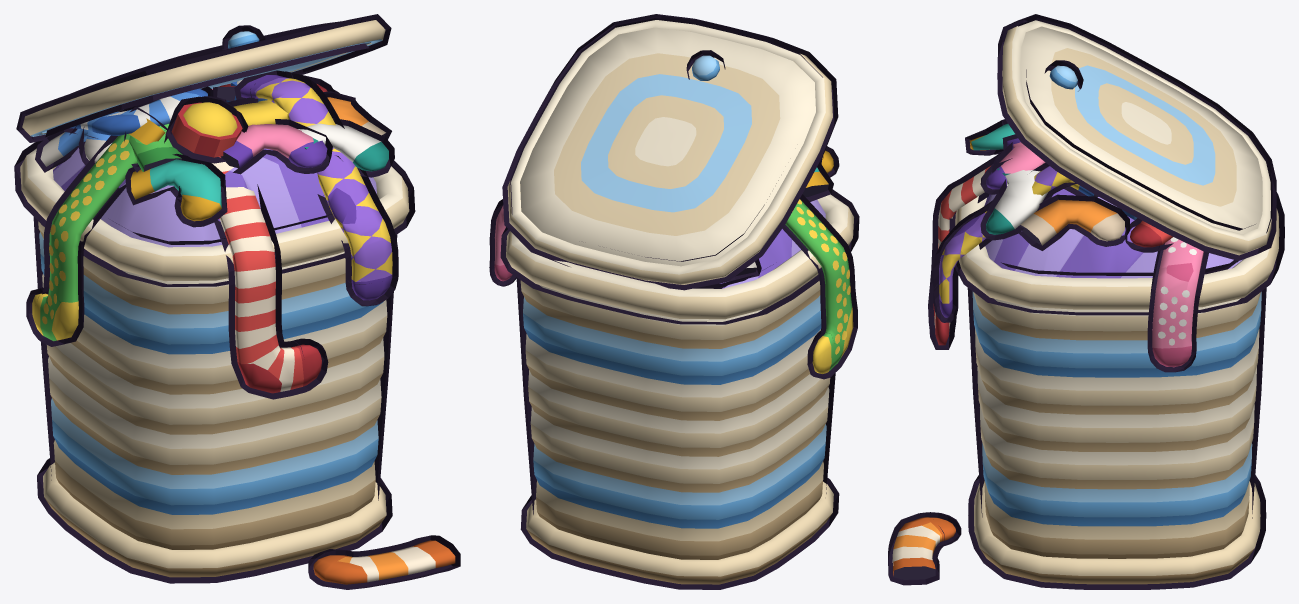
Rendered from Hamper.glb.
3 views of the same model, side by side, from view 1: azimuth 30°, elevation 25°; view 2: azimuth 150°, elevation 25°; view 3: azimuth 270°, elevation 25° (orthographic). The views are drawn at different scales.
Parts seen in each view (by area): view 1: Hamper, Hamper_Outline; view 2: Hamper, Hamper_Outline; view 3: Hamper, Hamper_Outline.
Boxes of the visible parts, bbox=[...] form: Hamper: bbox=[20, 20, 455, 584]; Hamper_Outline: bbox=[14, 14, 460, 589]; Hamper: bbox=[494, 20, 853, 584]; Hamper_Outline: bbox=[489, 14, 859, 589]; Hamper: bbox=[892, 20, 1279, 584]; Hamper_Outline: bbox=[888, 14, 1284, 589].
Bounding box in the file's own units: 7.92 × 11.09 × 8.34.
1 material, 1 textured.
